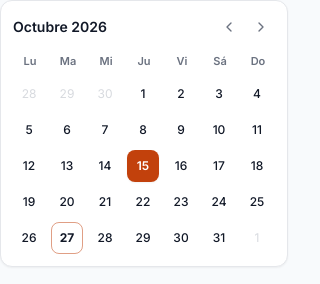
Test case: Calendar Component › renderiza el mes y año actual y permite navegar entre meses
The width and height of the screenshot is (320, 284).
Expected: the heading "Octubre 2026" is shown, x1=13 y1=17 x2=107 y2=37
Click the button named "Mes anterior": (229, 27) x1=215 y1=13 x2=243 y2=41
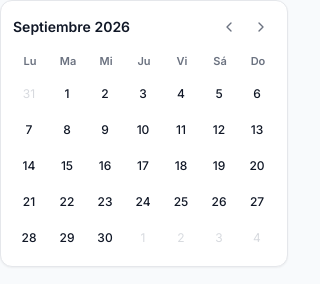
Now the heading "Septiembre 2026" is shown, box x1=13 y1=17 x2=130 y2=37
Click the button named "Mes siguiente": (261, 27) x1=247 y1=13 x2=275 y2=41
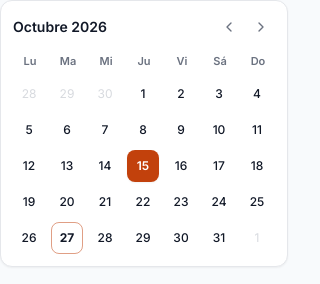
Now the heading "Octubre 2026" is shown, box x1=13 y1=17 x2=107 y2=37
